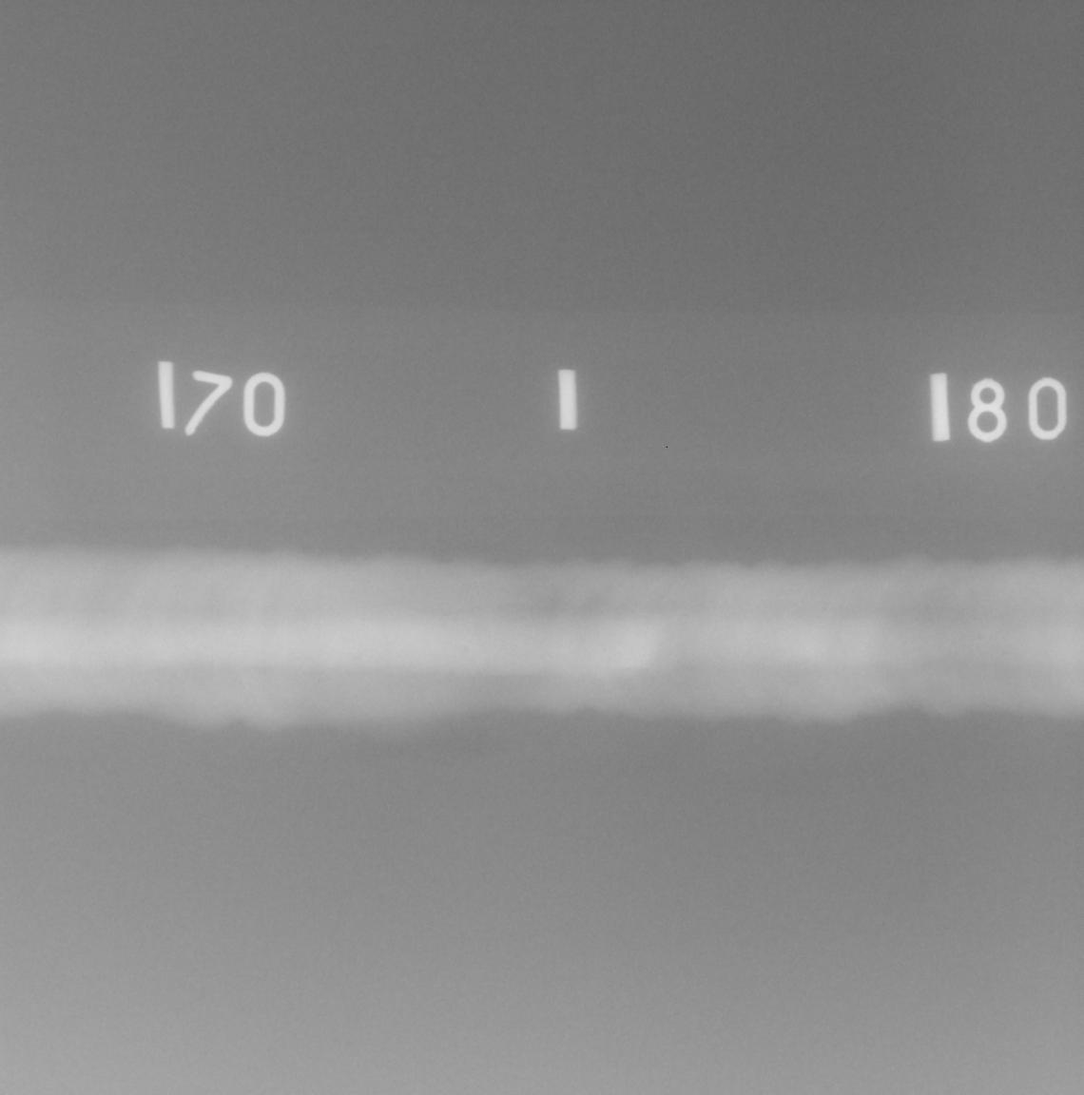Pore/Porosity: (463, 648, 468, 653), (681, 615, 688, 617), (977, 637, 981, 640)
